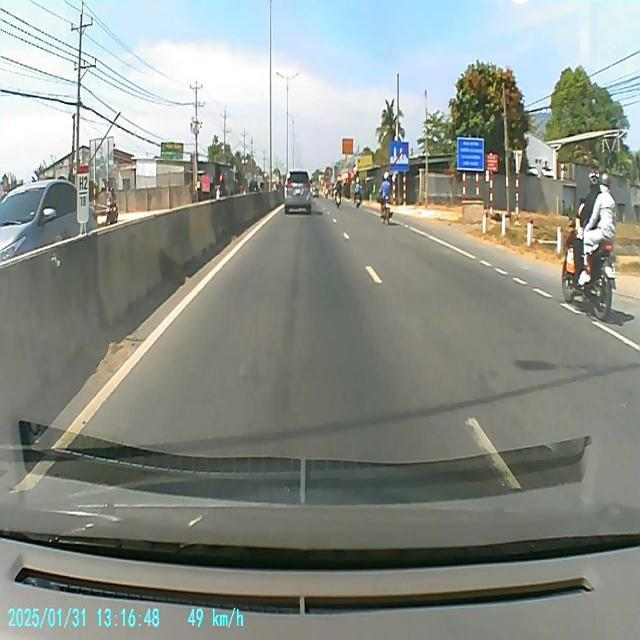421-ket-thuc-khu-dong-dan-cu: (388, 140, 409, 172)
